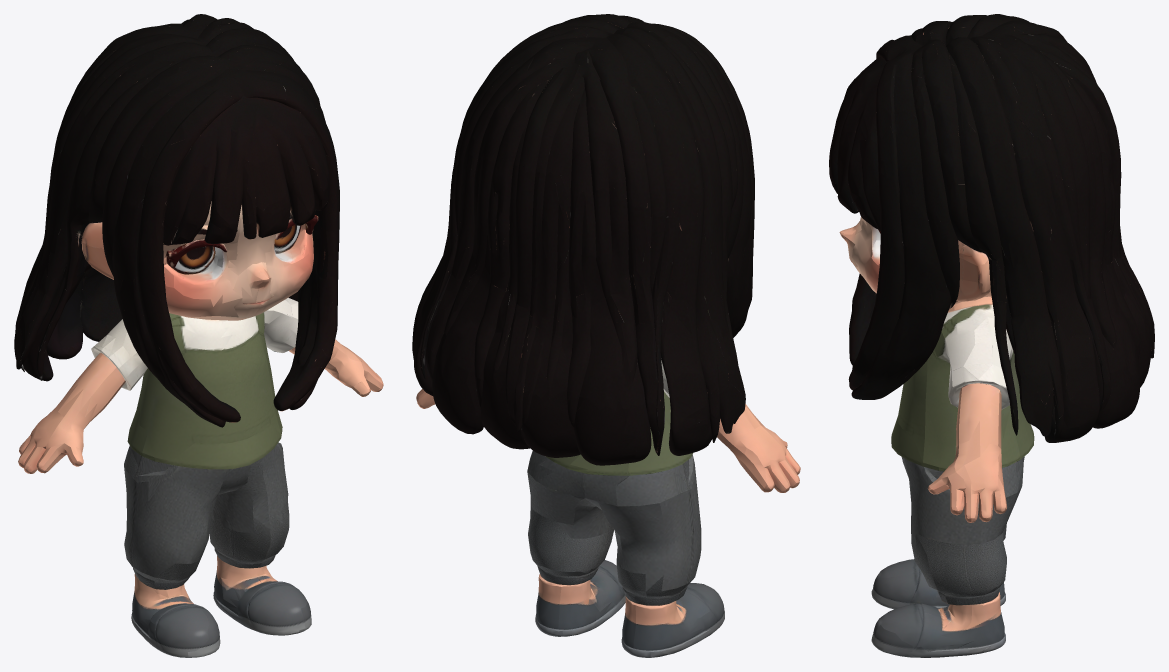
The model's file is retex_apron_01a120ef-cdc3-74c9-b7ba-0c1de385135e.glb.
3 renders of one model, left to right at view 1: azimuth 30°, elevation 25°; view 2: azimuth 150°, elevation 25°; view 3: azimuth 270°, elevation 25°, orthographic. The views are drawn at different scales.
Bounding box in the file's own units: 1.23 × 1.9 × 0.9461.
Materials: 1 (1 with a texture image).
